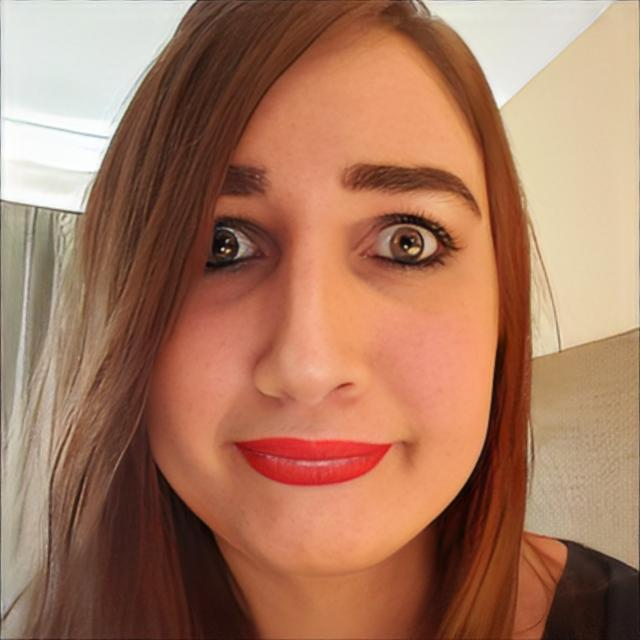surprise: (141, 26, 501, 580)
